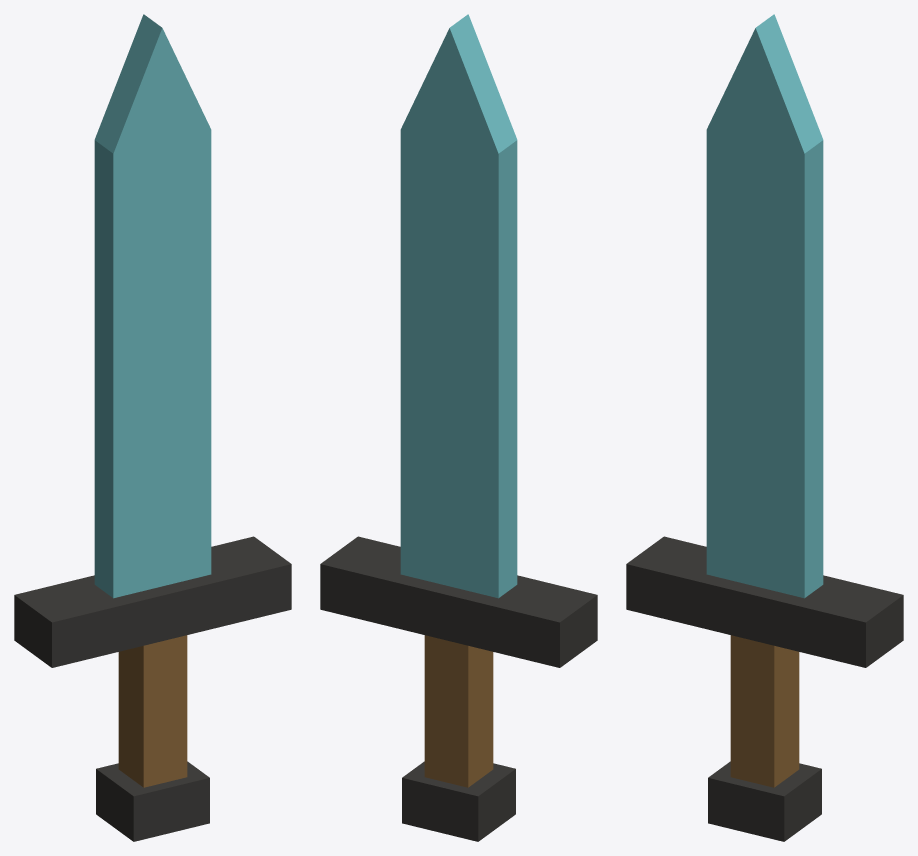
File: sword_dia.fbx
3 views of the same model, side by side, from view 1: azimuth 30°, elevation 25°; view 2: azimuth 150°, elevation 25°; view 3: azimuth 330°, elevation 25° (orthographic).
Parts seen in each view (by area): view 1: sword_dia; view 2: sword_dia; view 3: sword_dia.
Part boxes in pixels (left/top/right/bottom): sword_dia: left=14, top=14, right=291, bottom=841; sword_dia: left=320, top=14, right=597, bottom=841; sword_dia: left=626, top=14, right=903, bottom=841.
Size of the model in its own units: 0.66 by 2.1 by 0.18.
